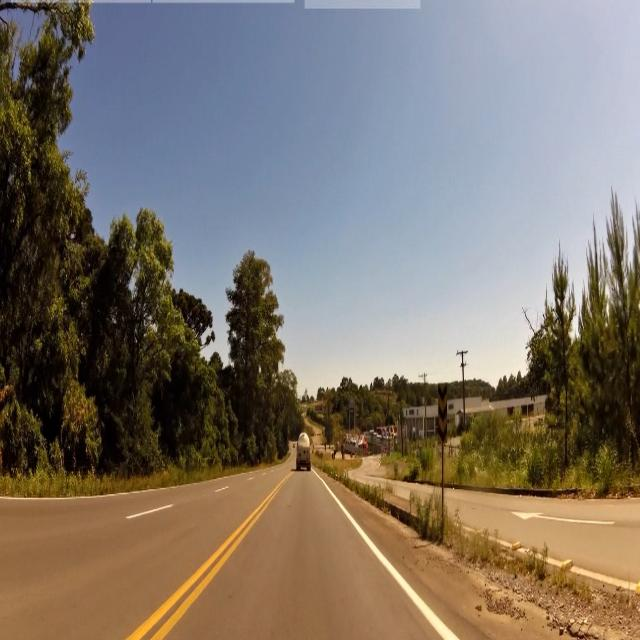MP: (439, 382, 448, 444)
